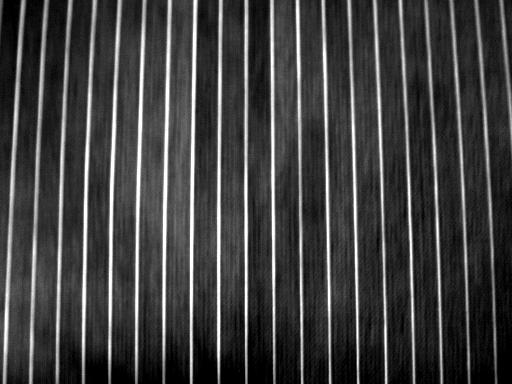fabric_perfect: (3, 2, 511, 384)
